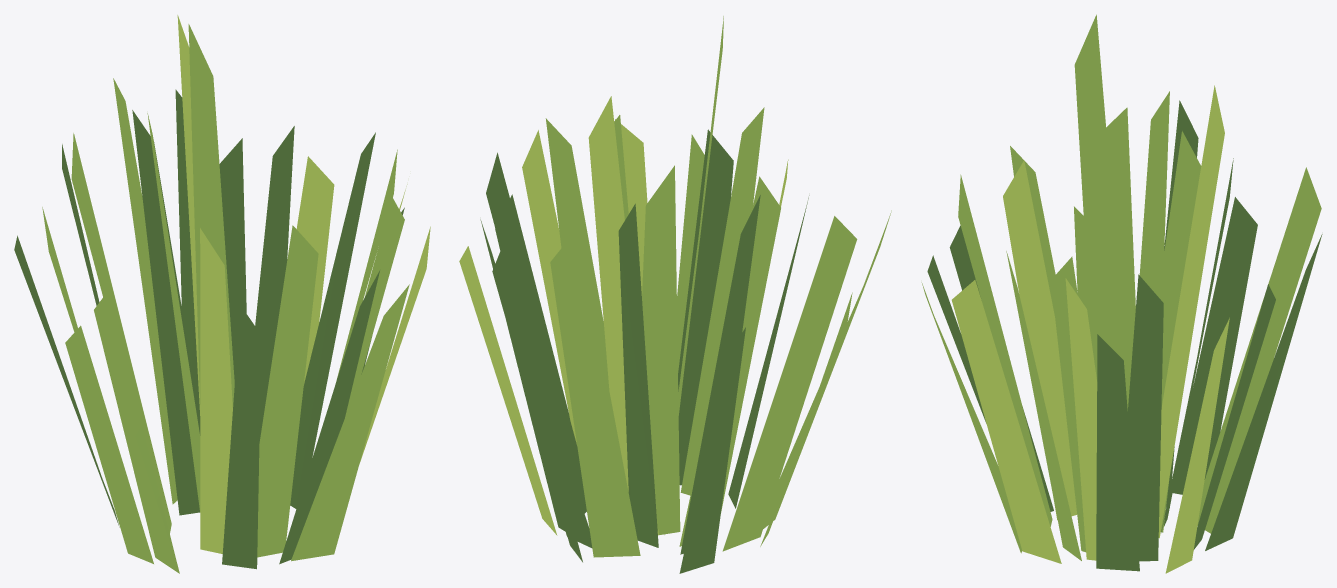
File: SM_Grass_Clump_C.fbx
The picture shows the model from 3 angles, left to right: view 1: azimuth 30°, elevation 25°; view 2: azimuth 150°, elevation 25°; view 3: azimuth 270°, elevation 25°; orthographic projection. The views are drawn at different scales.
Parts seen in each view (by area): view 1: SM_Grass_Clump_C; view 2: SM_Grass_Clump_C; view 3: SM_Grass_Clump_C.
Part boxes in pixels (box(x1,y1,x2,y2)): SM_Grass_Clump_C: box(14, 15, 430, 573); SM_Grass_Clump_C: box(459, 16, 891, 573); SM_Grass_Clump_C: box(921, 14, 1322, 573).
Bounding box in the file's own units: 0.6984 × 0.9815 × 0.7265.
